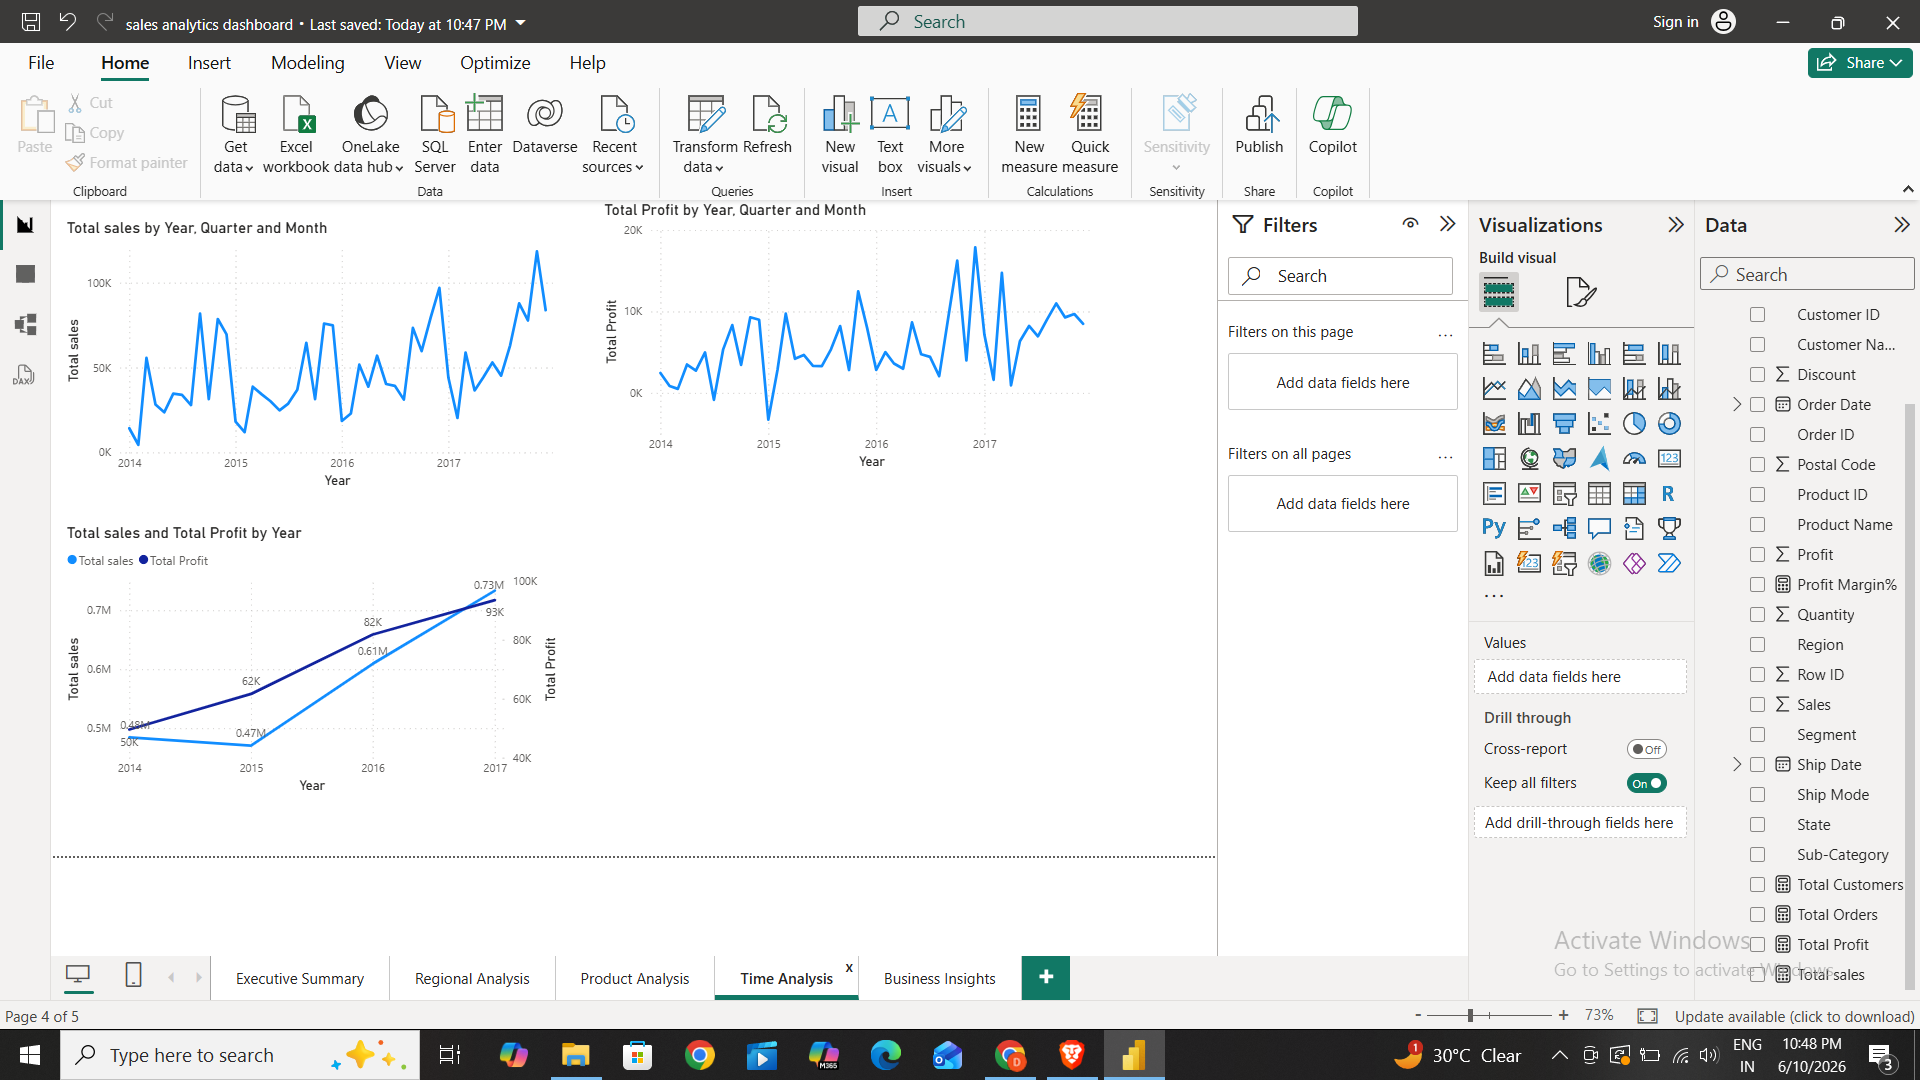

This screenshot's page, from the dashboard's own definition file:
{"tool":"powerbi","page":{"name":"Time Analysis ","canvas":[1280,720],"ordinal":3},"visuals":[{"type":"lineChart","fields":{"Category":["SSRD.Order Date.Variation.Date Hierarchy.Year","SSRD.Order Date.Variation.Date Hierarchy.Quarter","SSRD.Order Date.Variation.Date Hierarchy.Month","SSRD.Order Date.Variation.Date Hierarchy.Day"],"Y":["SSRD.Total sales"]},"box":[12.3,20.6,548.9,300.5],"z":0},{"type":"lineChart","fields":{"Category":["SSRD.Order Date.Variation.Date Hierarchy.Year","SSRD.Order Date.Variation.Date Hierarchy.Quarter","SSRD.Order Date.Variation.Date Hierarchy.Month","SSRD.Order Date.Variation.Date Hierarchy.Day"],"Y":["SSRD.Total Profit"]},"box":[602.4,0,548.9,300.5],"z":1},{"type":"lineChart","fields":{"Category":["SSRD.Order Date.Variation.Date Hierarchy.Year","SSRD.Order Date.Variation.Date Hierarchy.Quarter","SSRD.Order Date.Variation.Date Hierarchy.Month","SSRD.Order Date.Variation.Date Hierarchy.Day"],"Y":["SSRD.Total sales"],"Y2":["SSRD.Total Profit"]},"box":[12.3,354.7,548.9,300.5],"z":2}]}

Visuals, with their boxes on the page's 1280x720 design canvas (x1, y1, x2, y2). These are canvas units, not pixel positions in the 1920x1080 screenshot, which may show the page scaled, cropped or inside an application window:
lineChart - SSRD.Order Date.Variation.Date Hierarchy.Year x SSRD.Order Date.Variation.Date Hierarchy.Quarter: crop(12, 21, 561, 321)
lineChart - SSRD.Order Date.Variation.Date Hierarchy.Year x SSRD.Order Date.Variation.Date Hierarchy.Quarter: crop(602, 0, 1151, 300)
lineChart - SSRD.Order Date.Variation.Date Hierarchy.Year x SSRD.Order Date.Variation.Date Hierarchy.Quarter: crop(12, 355, 561, 655)
